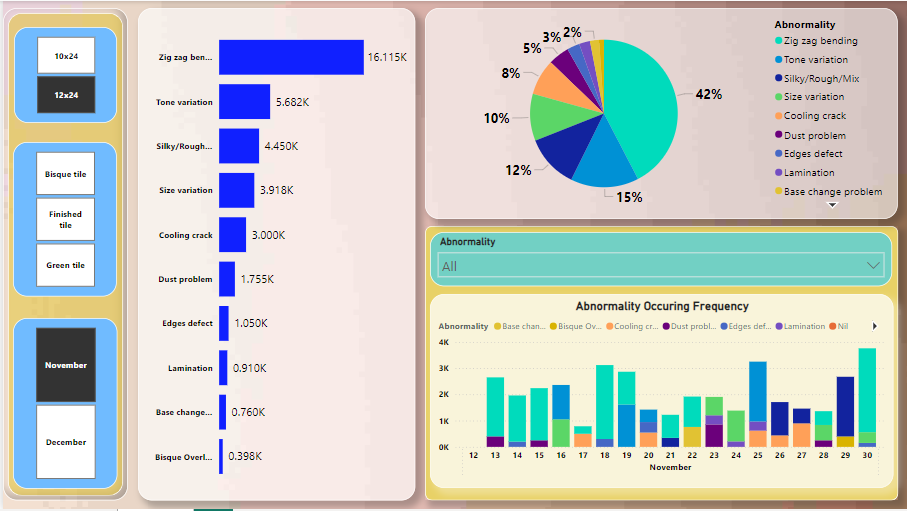

The dashboard page shown, as its layout file describes it:
{"tool":"powerbi","page":{"name":"Page 1","canvas":[1280,720],"ordinal":0},"visuals":[{"type":"clusteredBarChart","fields":{"Y":["Sum(QC Analysis report pbix.Hold stock (sqm))"],"Category":["QC Analysis report pbix.Abnormality"]},"box":[191.5,10.1,393.1,698.4],"z":0},{"type":"shape","box":[0,10.1,177.1,698.4],"z":1000},{"type":"slicer","fields":{"Values":["QC Analysis report pbix.Size"]},"box":[15,36.2,146.2,136.2],"z":2000},{"type":"slicer","fields":{"Values":["QC Analysis report pbix.Type"]},"box":[13.7,200.4,146.9,218.9],"z":3000},{"type":"shape","box":[597.8,318.9,670.7,389],"z":4000},{"type":"slicer","fields":{"Values":["QC Analysis report pbix.Abnormality"]},"box":[605.7,327.5,655,77.5],"z":5000},{"type":"lineStackedColumnComboChart","title":"Abnormality Occuring Frequency","fields":{"Category":["QC Analysis report pbix.Date.Variation.Date Hierarchy.Month","QC Analysis report pbix.Date.Variation.Date Hierarchy.Day"],"Y":["Sum(QC Analysis report pbix.Hold stock (sqm))"],"Series":["QC Analysis report pbix.Abnormality"]},"box":[605.7,415.5,656.7,274.7],"z":6000},{"type":"slicer","fields":{"Values":["QC Analysis report pbix.Date.Variation.Date Hierarchy.Month"]},"box":[13.5,448.7,147.8,241.9],"z":7000},{"type":"pieChart","fields":{"Y":["Sum(QC Analysis report pbix.Hold stock (sqm))"],"Category":["QC Analysis report pbix.Abnormality"]},"box":[598,10.1,670.2,299],"z":8000}]}

Visuals, with their boxes in screenshot pixels (x1, y1, x2, y2), scaled from the page's 1280x720 canvas onto the 907x511 screenshot:
clusteredBarChart - Sum(QC Analysis report pbix.Hold stock (sqm)) x QC Analysis report pbix.Abnormality: locate(136, 7, 414, 503)
shape: locate(0, 7, 125, 503)
slicer - QC Analysis report pbix.Size: locate(11, 26, 114, 122)
slicer - QC Analysis report pbix.Type: locate(10, 142, 114, 298)
shape: locate(424, 226, 899, 502)
slicer - QC Analysis report pbix.Abnormality: locate(429, 232, 893, 287)
"Abnormality Occuring Frequency" lineStackedColumnComboChart: locate(429, 295, 895, 490)
slicer - QC Analysis report pbix.Date.Variation.Date Hierarchy.Month: locate(10, 318, 114, 490)
pieChart - Sum(QC Analysis report pbix.Hold stock (sqm)) x QC Analysis report pbix.Abnormality: locate(424, 7, 899, 219)
